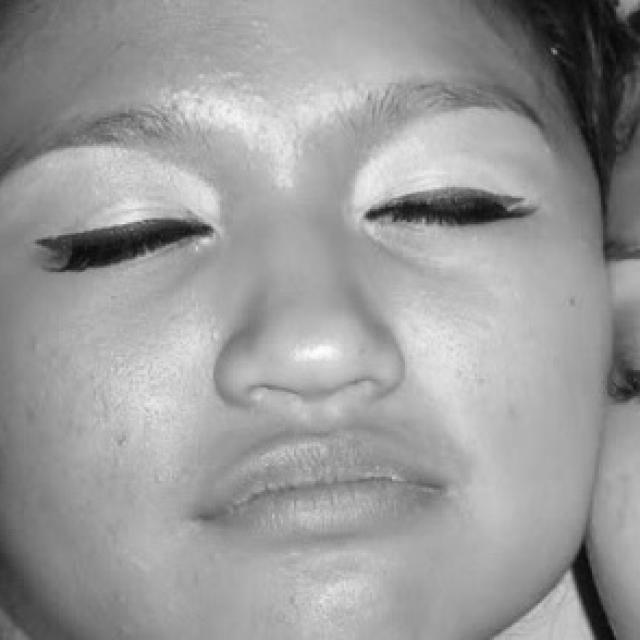real: (10, 20, 578, 608), (32, 142, 564, 288)
